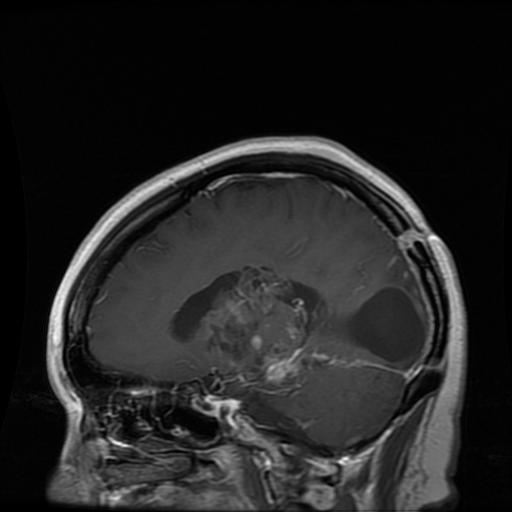Gliomia_tumour: (353, 286, 425, 363)
